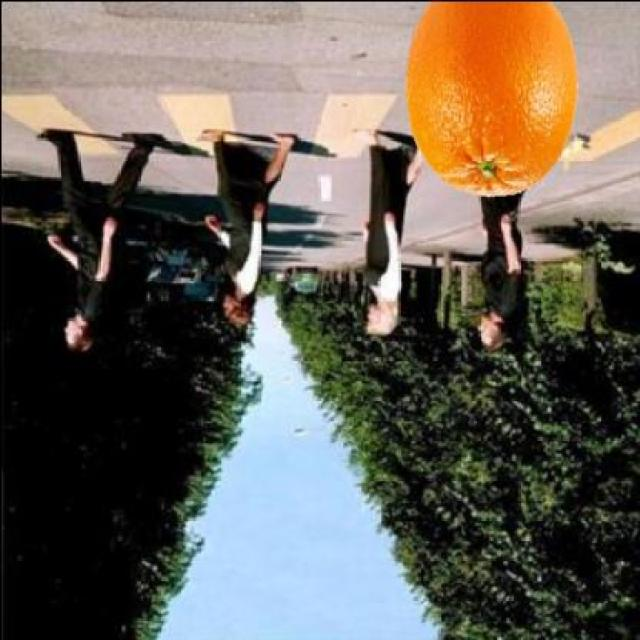Orange: (403, 0, 578, 198)
